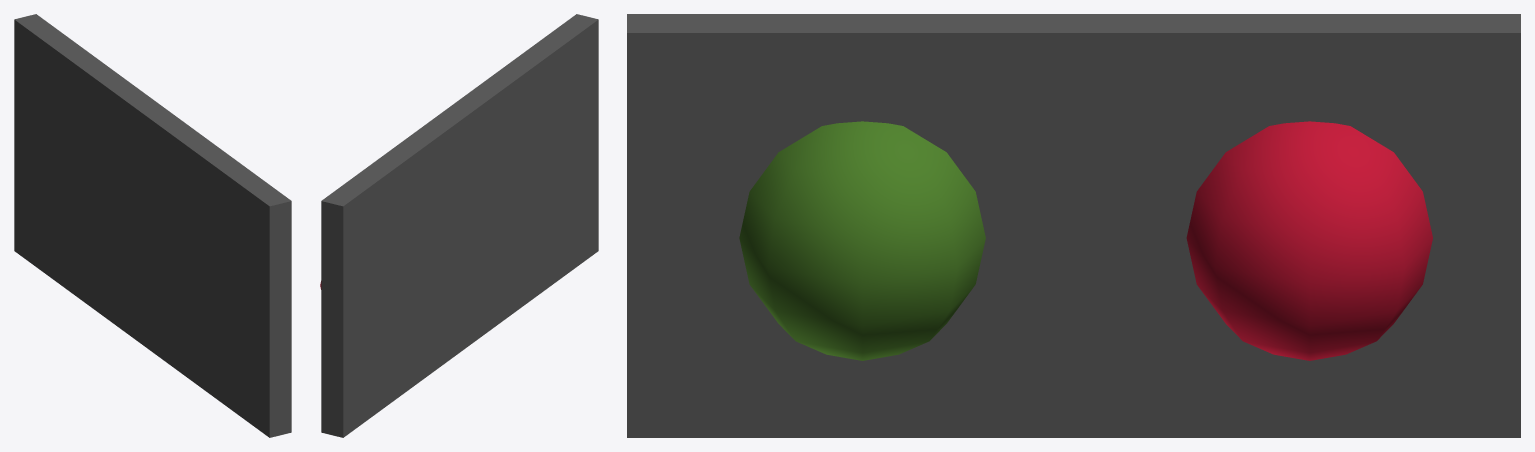
The model's file is buttons to separate.glb.
The picture shows the model from 3 angles, left to right: view 1: azimuth 30°, elevation 25°; view 2: azimuth 150°, elevation 25°; view 3: azimuth 270°, elevation 25°; orthographic projection. The views are drawn at different scales.
Parts seen in each view (by area): view 1: Cube.117; view 2: Cube.117; view 3: Cube.117, Sphere, Sphere.005.
Boxes of the visible parts, x1=… form: Cube.117: x1=14, y1=14, x2=291, y2=437; Cube.117: x1=321, y1=14, x2=598, y2=437; Cube.117: x1=627, y1=14, x2=1520, y2=437; Sphere: x1=739, y1=121, x2=985, y2=360; Sphere.005: x1=1186, y1=121, x2=1432, y2=360.
Size of the model in its own units: 0.0286 by 0.0835 by 0.1671.
Materials: 1 (1 with a texture image).
